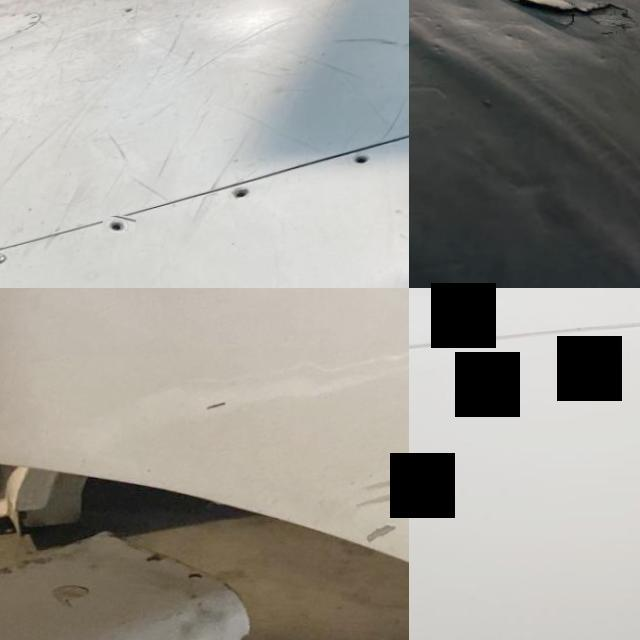Crack: (504, 0, 640, 47)
Missing_Fastener: (106, 217, 140, 236), (354, 155, 376, 170), (234, 189, 259, 202)
